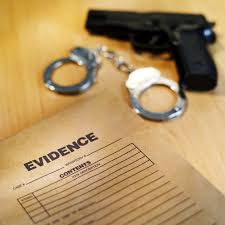gun: (82, 4, 219, 94)
